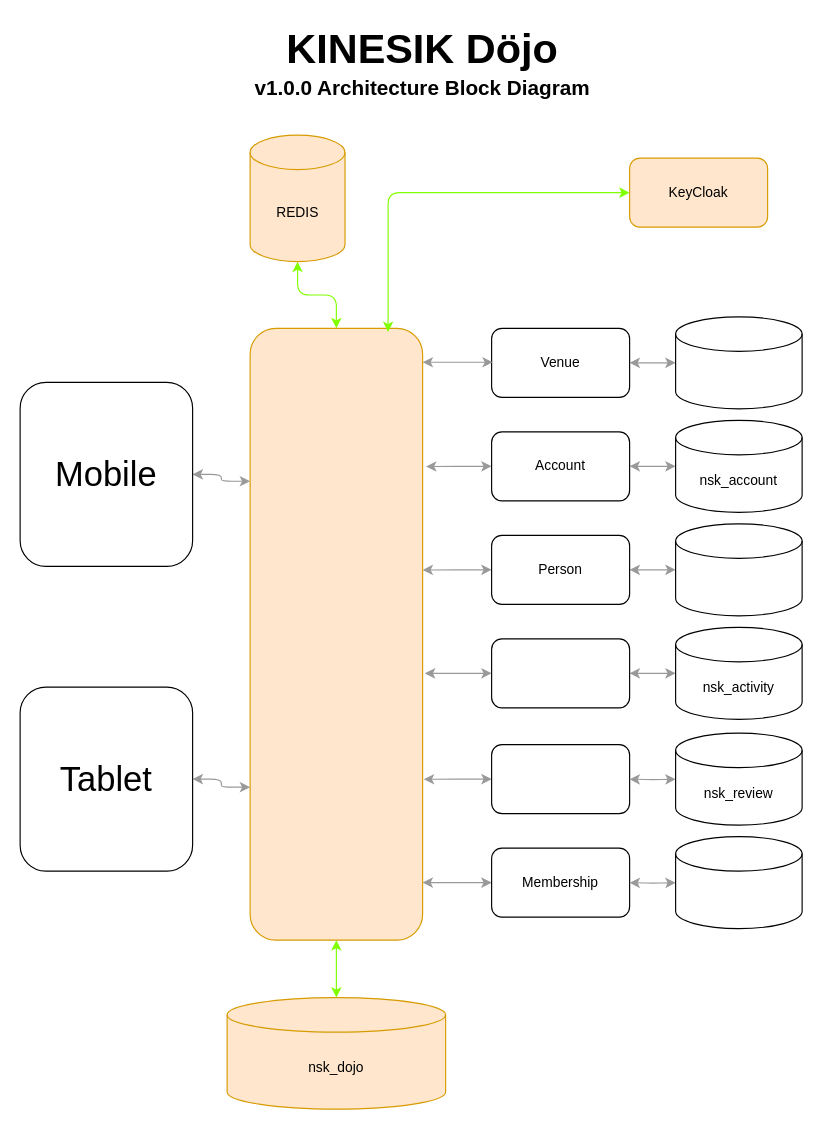
This 822x1129 diagram has some shape labels left out. The shapes that lost their labels are listed below. From the top down, each one's box as (x1, y1, x2, y2) in pixels, then its label:
(674, 316, 802, 409): nsk_venue
(674, 523, 802, 616): nsk_person
(249, 327, 423, 940): Core
(490, 638, 630, 708): Activity
(490, 743, 630, 814): Review
(674, 835, 802, 929): nsk_membership
